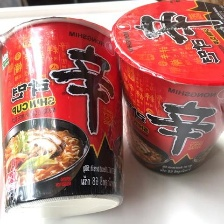paper_cup: (0, 10, 131, 224), (108, 0, 224, 180)
